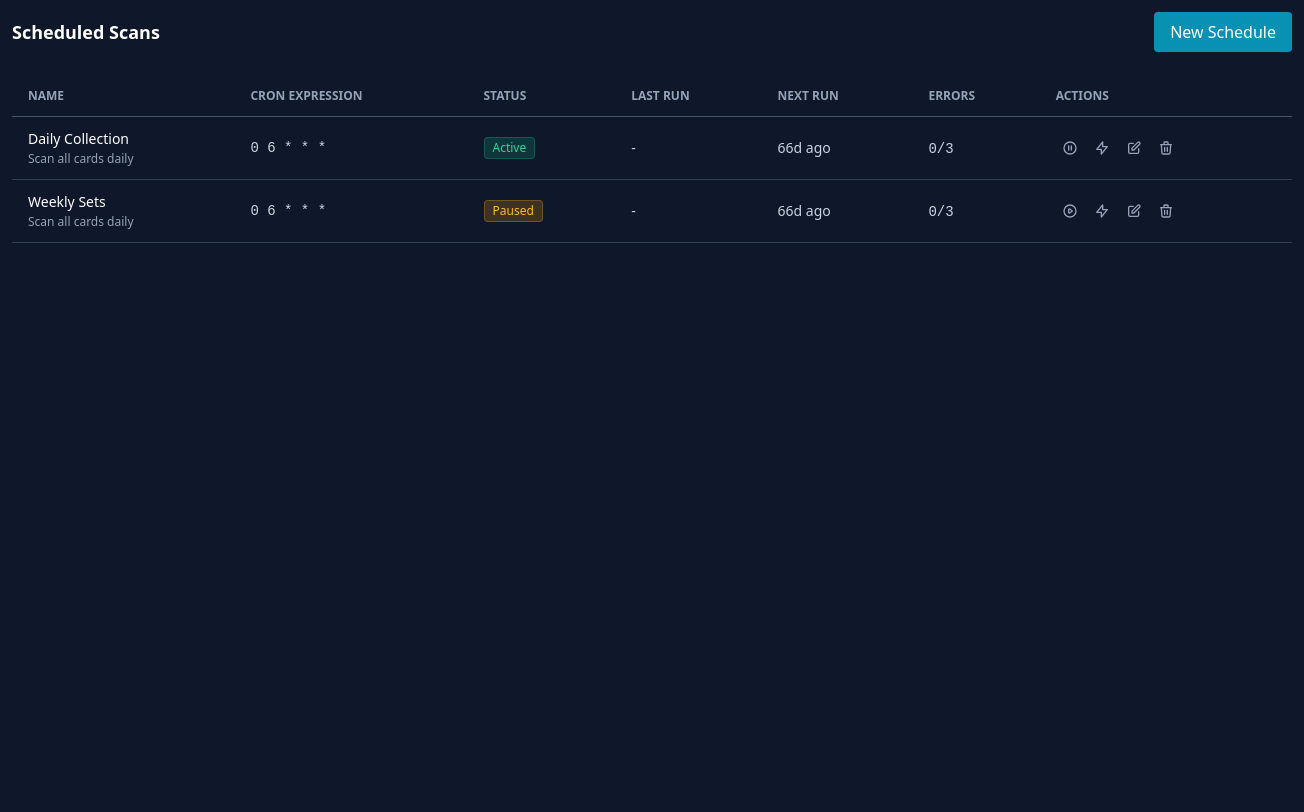
Test case: AdminSchedulesSection › handleUpdate: successful update closes form and reloads
Check: the row with test id "schedule-row-1" is shown, box [12,116,1292,180]
Note: Click the edit button on the first schedule
Click the button with test id "action-edit-1".
click(1134, 148)  # box [1120,134,1148,162]
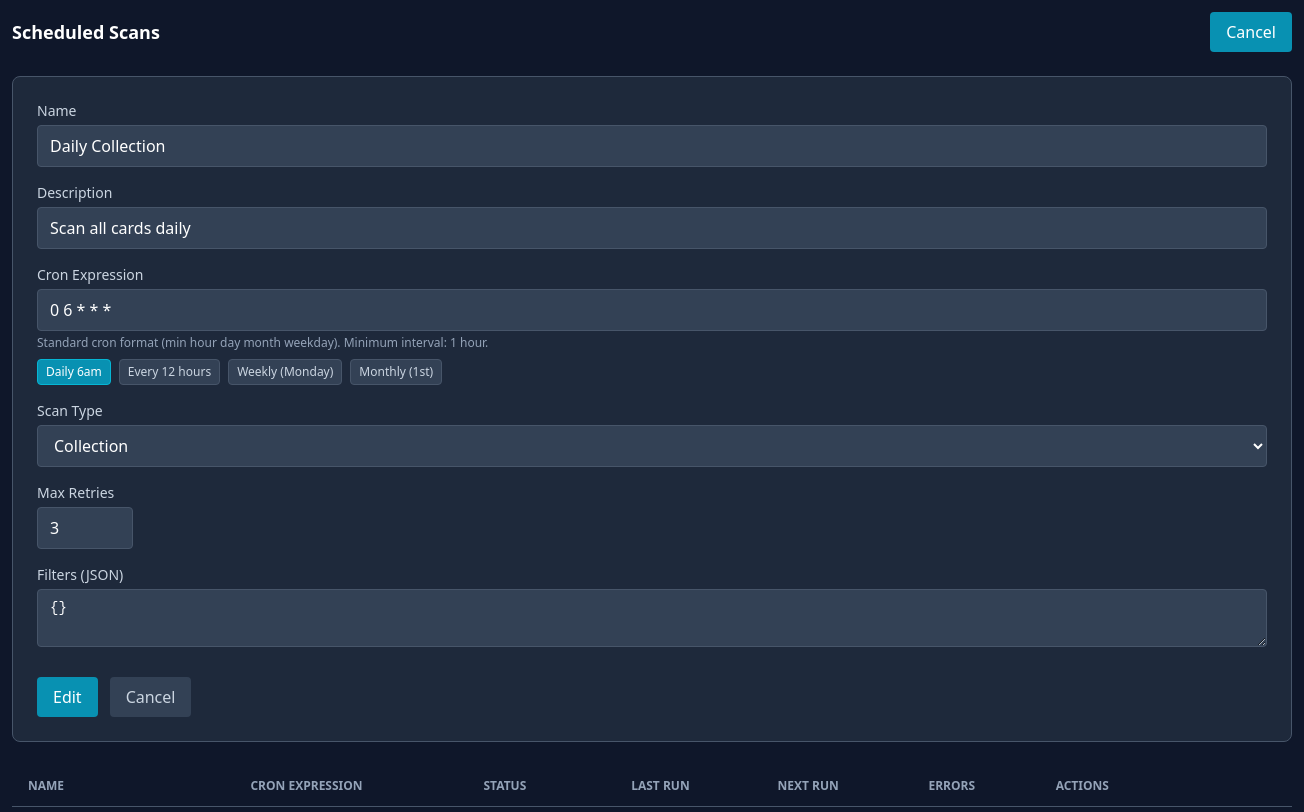
Check: the element with test id "schedule-form" is shown
Note: Change the name
Replace the text in the field with test id "schedule-name-input" with "Updated Name" at (652, 146), box [37,125,1267,167]
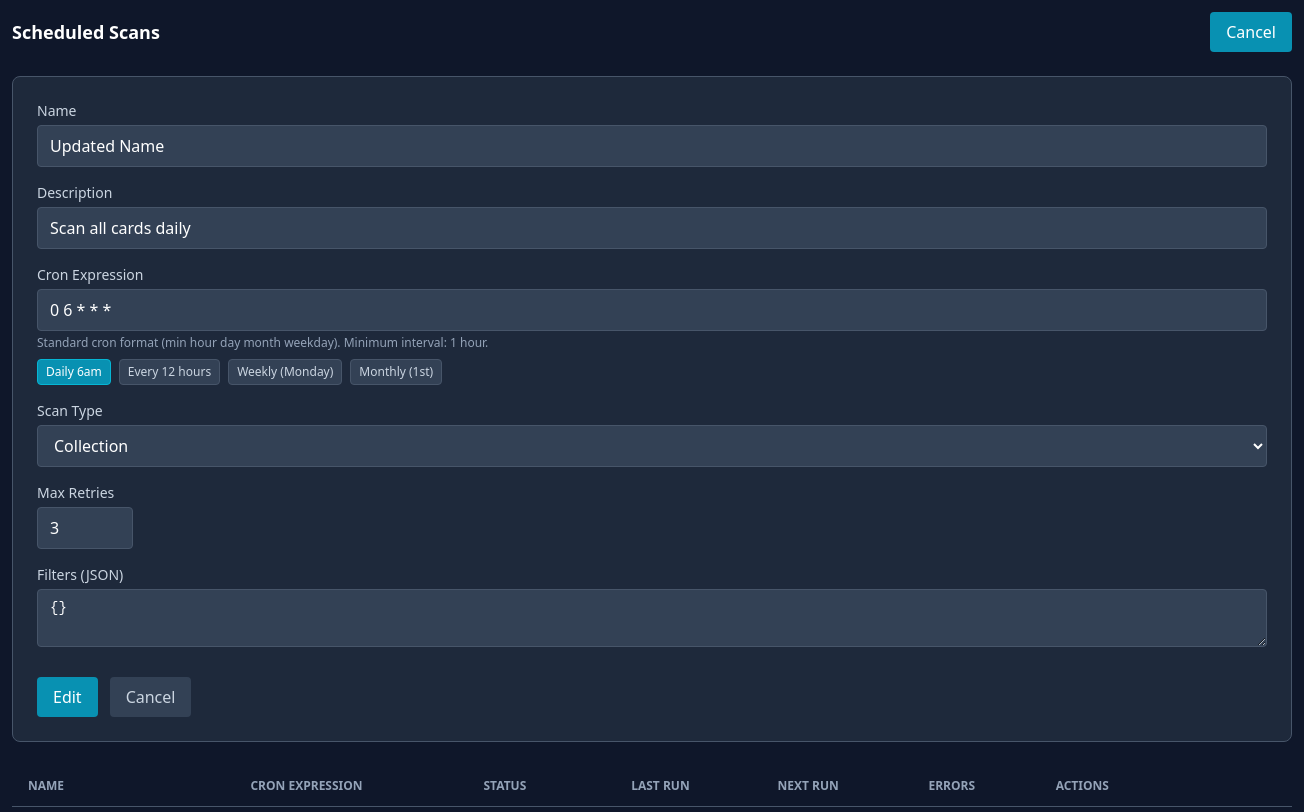
Click the button with test id "schedule-submit-btn".
click(67, 697)  # box [37,677,98,717]
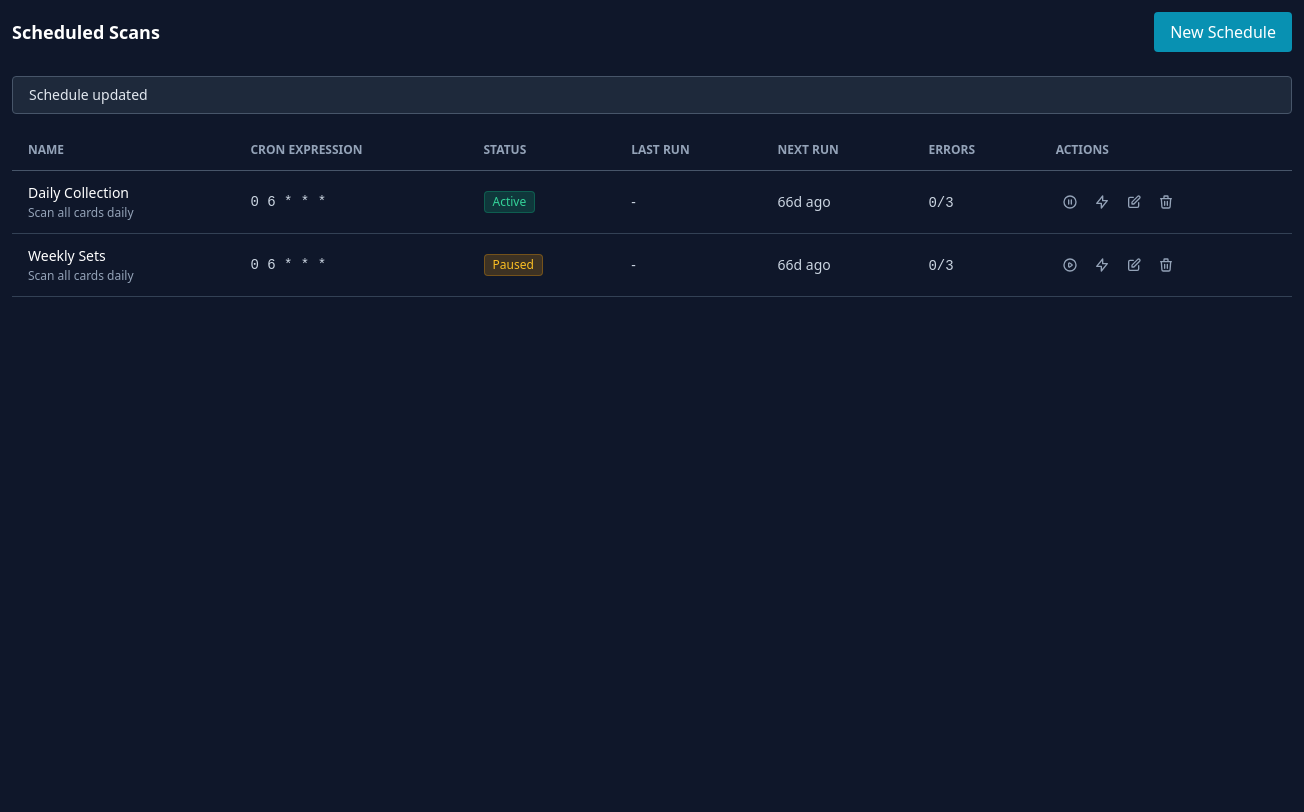
Check: the element with test id "schedule-form-container" is gone
Check: the text "Schedule updated" is shown, box [12,76,1292,114]
